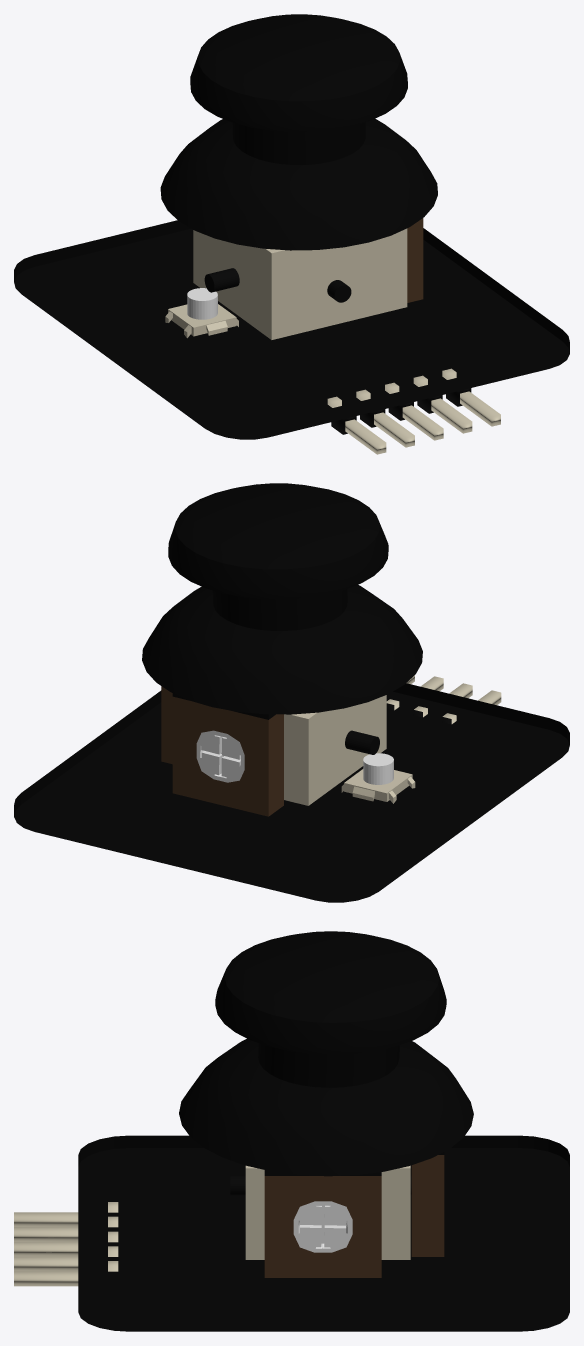
File: JOYSTICK MODULE.fbx
3 renders of one model, top to bottom at view 1: azimuth 30°, elevation 25°; view 2: azimuth 150°, elevation 25°; view 3: azimuth 270°, elevation 25°, orthographic. The views are drawn at different scales.
Visible parts, largest first — view 1: Cube.003, joystick; view 2: Cube.003, joystick; view 3: Cube.003, joystick.
Boxes of the visible parts, x1,y1,x2,y2 form: Cube.003: (14,218,569,454); joystick: (160,14,437,250); Cube.003: (14,675,569,902); joystick: (142,483,422,714); Cube.003: (14,1135,569,1331); joystick: (179,931,473,1176).
Size of what is drawn, in the model's own units: 584 by 437 by 746.
